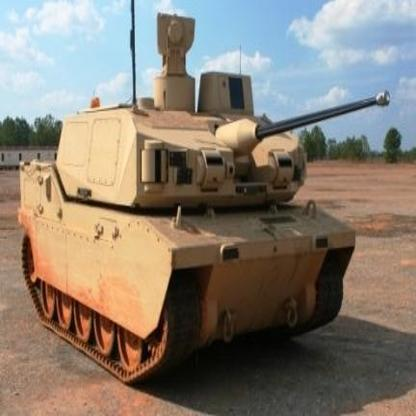Tank: (16, 47, 395, 387)
